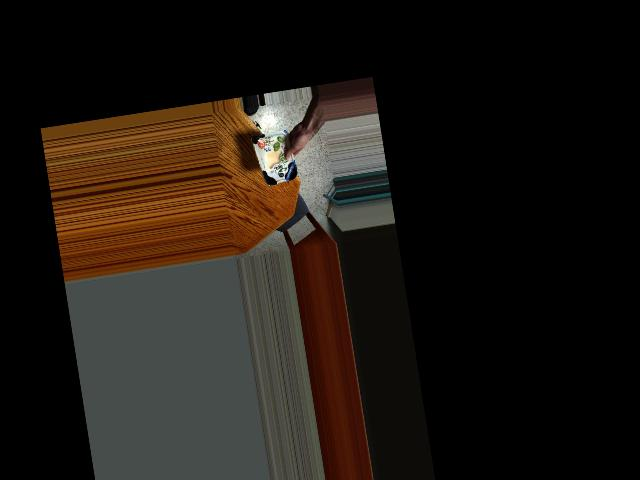cheese: (255, 133, 298, 184)
